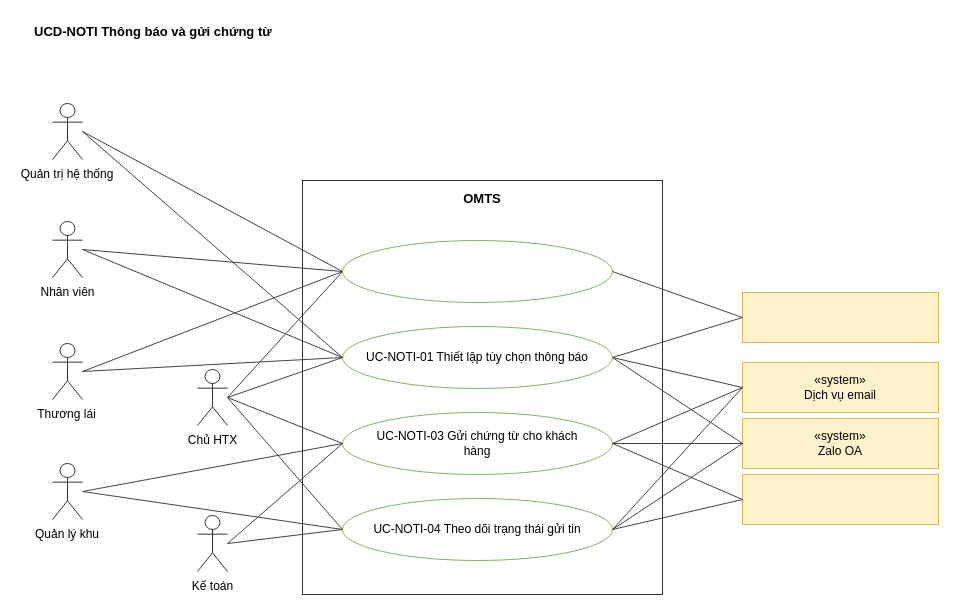
Some shapes in this 956 by 616 pixel diagram are drawn without their labels. The centre of each missing label's shape, as x and y in pixels:
"UC-NOTI-02 Xem thông báo" belongs at (x=477, y=271).
"«system» Dịch vụ SMS" belongs at (x=840, y=499).
"«system» Dịch vụ thông báo đẩy" belongs at (x=840, y=317).
